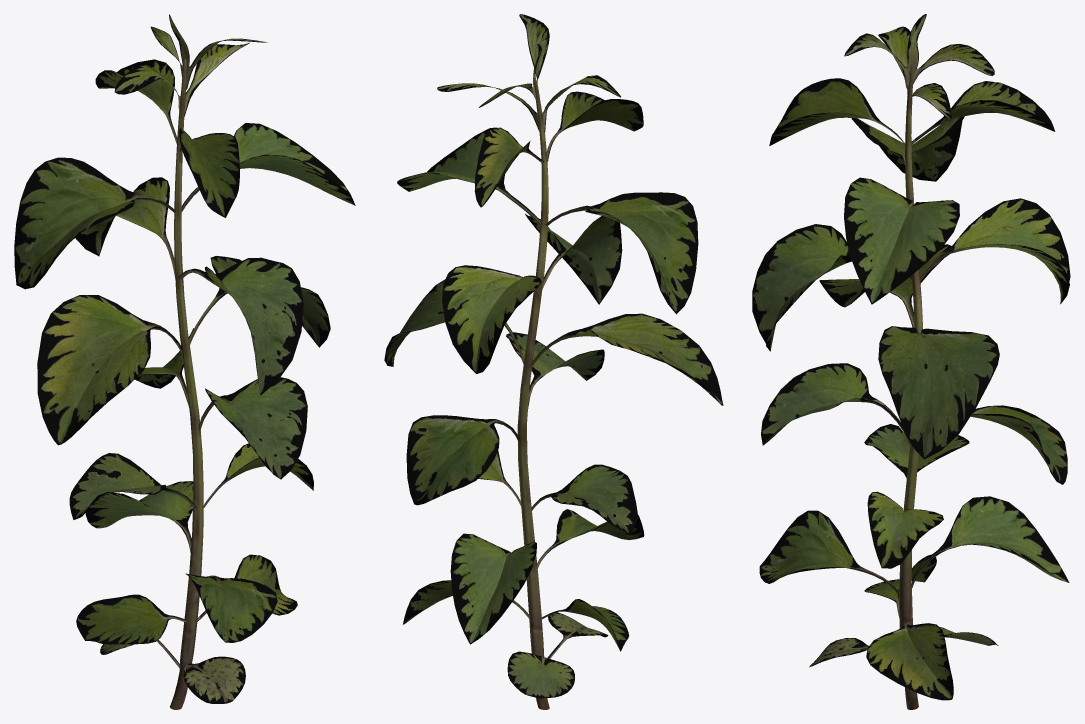
The model's file is nettle_plant_tall_a.gltf.
The picture shows the model from 3 angles, left to right: view 1: azimuth 30°, elevation 25°; view 2: azimuth 150°, elevation 25°; view 3: azimuth 270°, elevation 25°; orthographic projection. The views are drawn at different scales.
Parts seen in each view (by area): view 1: nettle_plant_tall_a_LOD0; view 2: nettle_plant_tall_a_LOD0; view 3: nettle_plant_tall_a_LOD0.
Boxes of the visible parts, <box> form: nettle_plant_tall_a_LOD0: <box>14,14,355,709</box>; nettle_plant_tall_a_LOD0: <box>384,14,723,709</box>; nettle_plant_tall_a_LOD0: <box>752,14,1070,709</box>.
Size of the model in its own units: 0.1036 by 0.2168 by 0.0901.
Materials: 1 (1 with a texture image).
